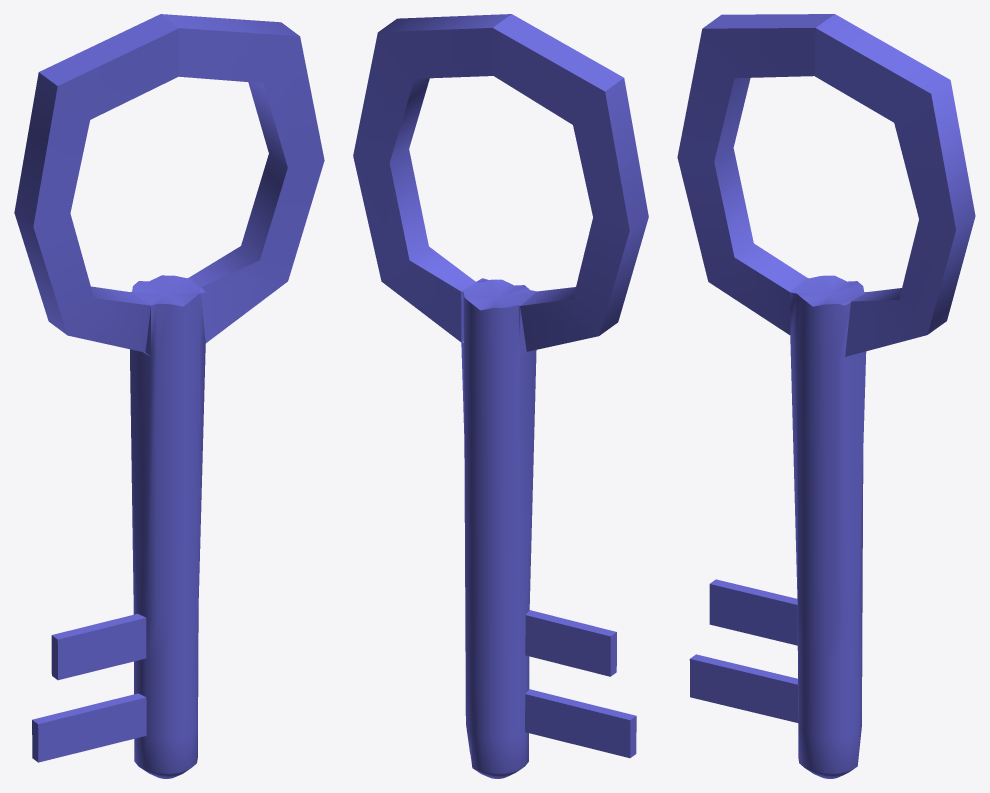
The model's file is SM_CircleKey.fbx.
3 renders of one model, left to right at view 1: azimuth 30°, elevation 25°; view 2: azimuth 150°, elevation 25°; view 3: azimuth 330°, elevation 25°, orthographic.
Visible parts, largest first — view 1: SM_CircleKey; view 2: SM_CircleKey; view 3: SM_CircleKey.
Boxes of the visible parts, left/top/right/bottom form: SM_CircleKey: left=14, top=14, right=324, bottom=778; SM_CircleKey: left=353, top=14, right=648, bottom=778; SM_CircleKey: left=677, top=14, right=975, bottom=778.
Bounding box in the file's own units: 25.96 × 66.16 × 5.42.
